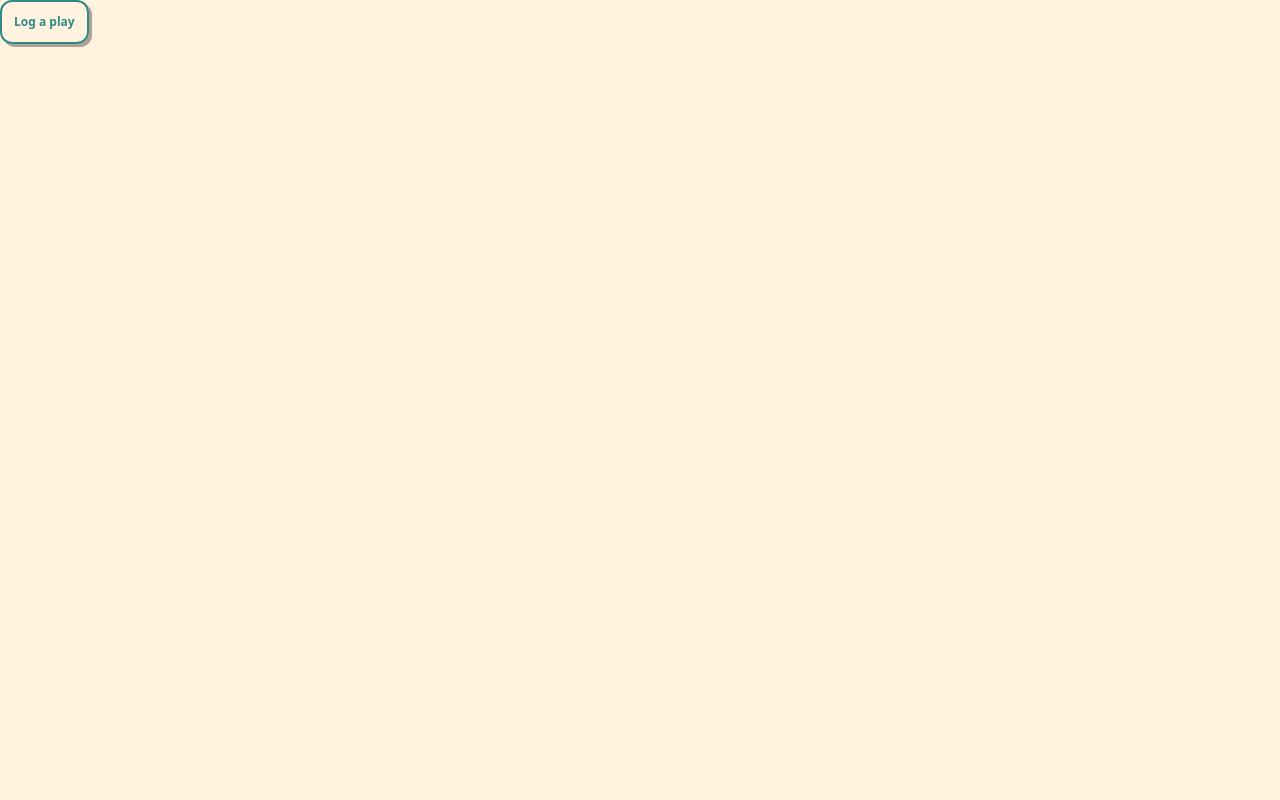
CalendarPlayLauncher › includes saved-only games, deduplicates owned games, and selects a cafe game for logging
Later steps or results of the test are not shown.
Click the button "Log a play".
click(44, 22)  # box [0,0,89,44]
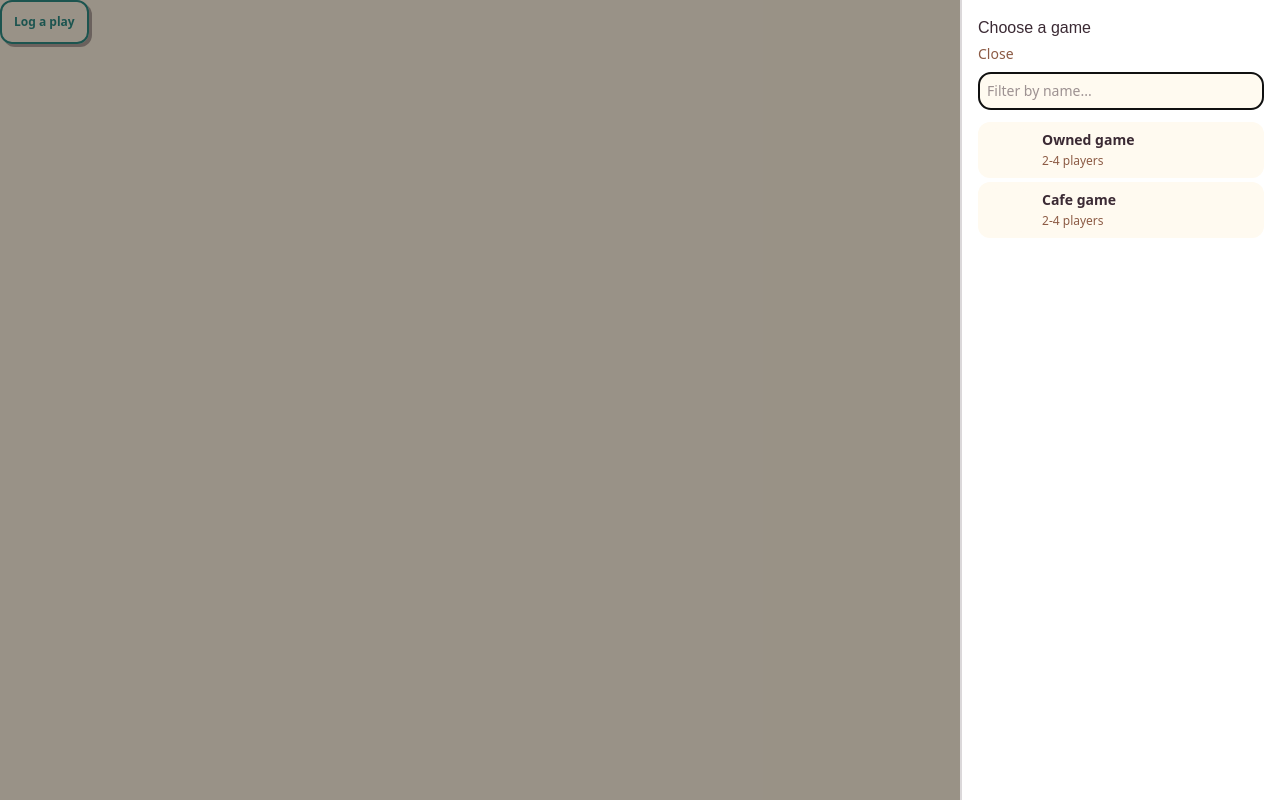
Expected: the number of buttons "Owned game 2-4 players" is 1, [978,122,1264,178]
